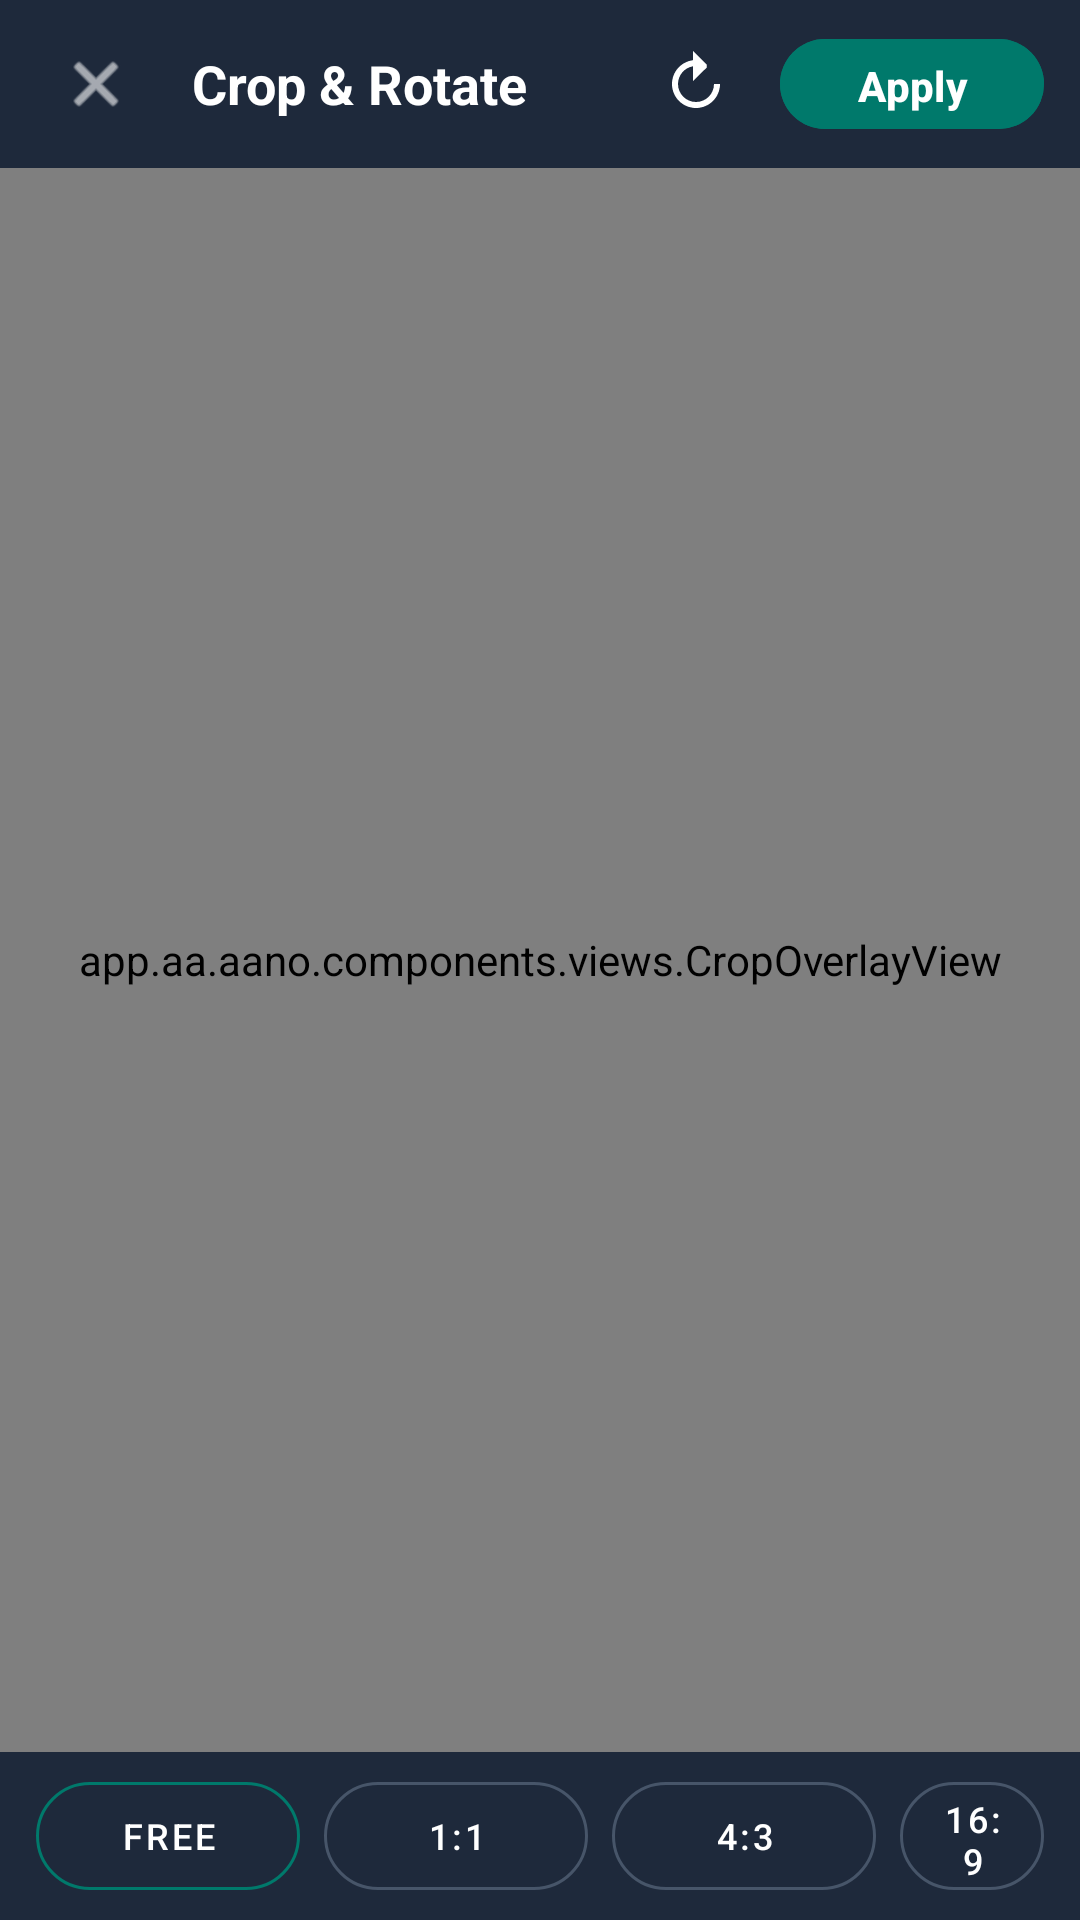

Icon bounding boxes for this 1080px×1920px phone screenshot, format (x1,y1,x2,y2):
Cancel: (73,61,119,107)
Rotate 90 Degrees: (672,51,720,108)
